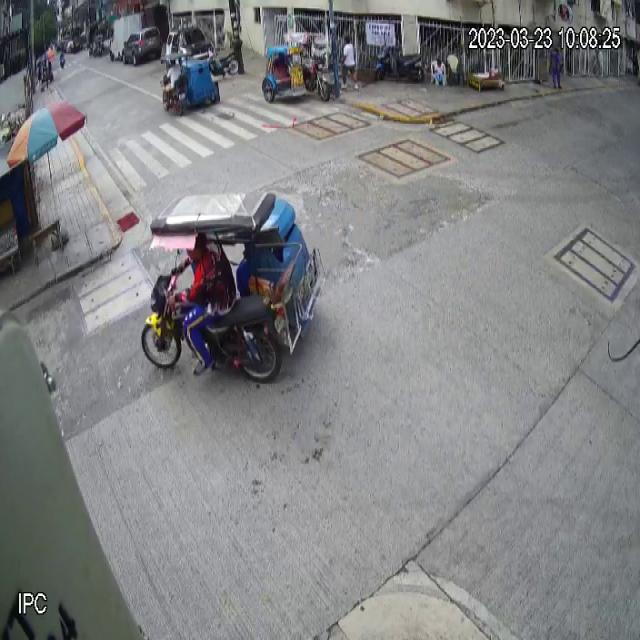Tricycle: (140, 190, 328, 382), (262, 31, 331, 104), (160, 51, 220, 116)
